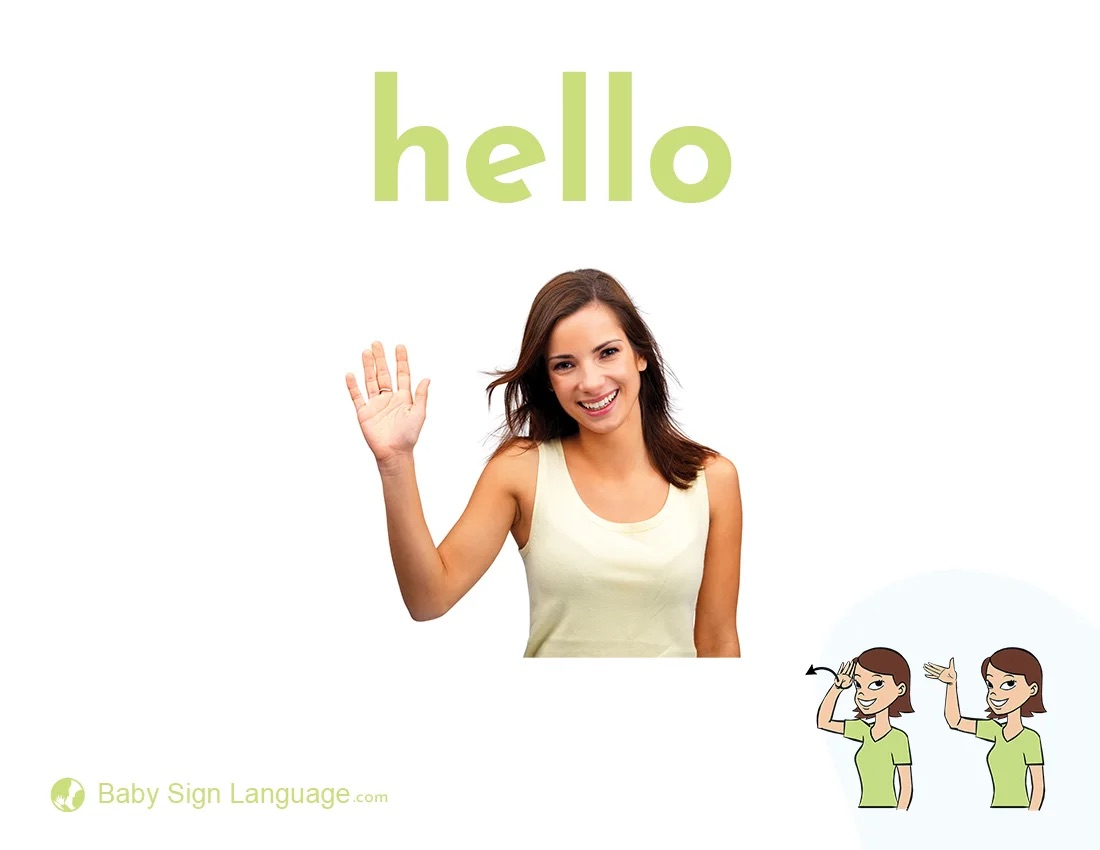hello: (338, 333, 456, 458)
